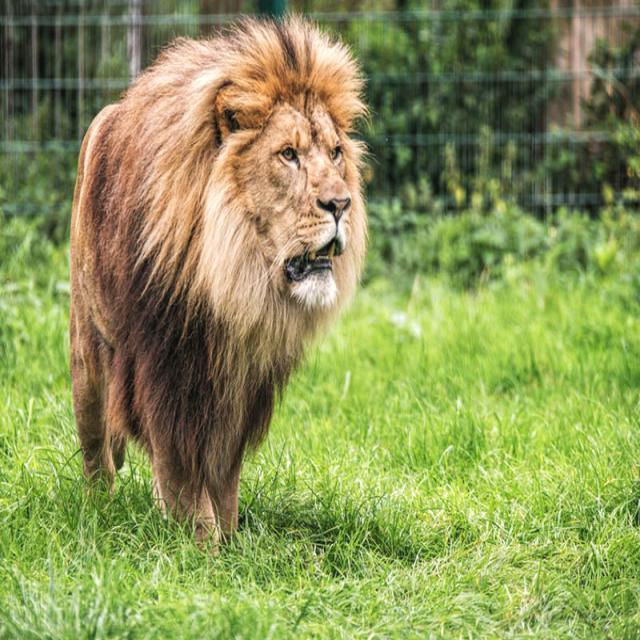lions: (30, 0, 447, 598)
